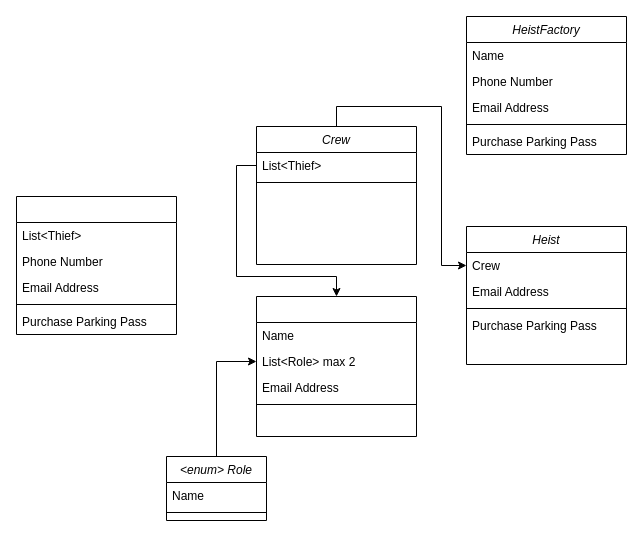
This 643x537 diagram has some shape labels left out. The shapes that lost their labels are listed below. From the top down, each one's box as (x1, y1, x2, y2) in pixels, then its label:
(16, 196, 176, 334): CharacterPool
(256, 296, 416, 436): Thief
